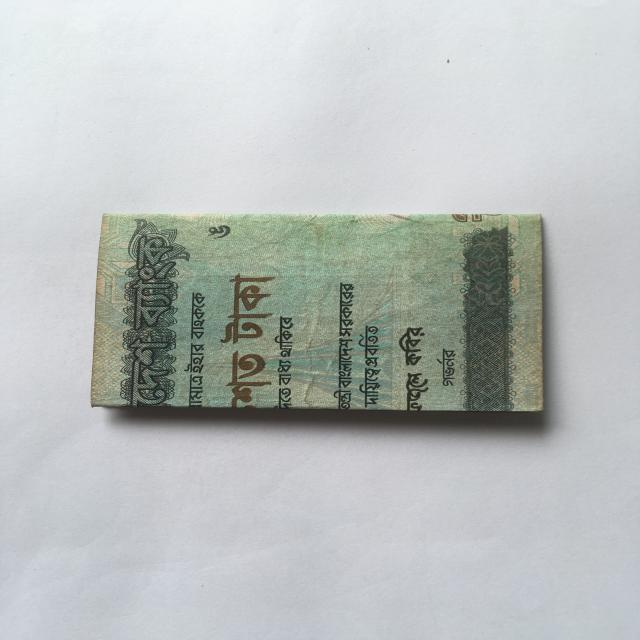Taka: (91, 201, 553, 420)
